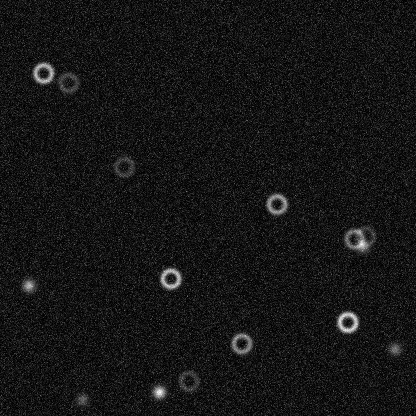Ring: (176, 368, 200, 392), (31, 60, 55, 84), (342, 226, 366, 250), (111, 154, 135, 178), (158, 266, 182, 290), (264, 191, 288, 215), (353, 224, 377, 248), (229, 331, 253, 355), (56, 70, 80, 94), (335, 310, 359, 334)
Spot: (386, 340, 402, 356), (151, 383, 167, 399), (354, 238, 370, 254), (74, 391, 90, 407), (20, 277, 36, 293)
